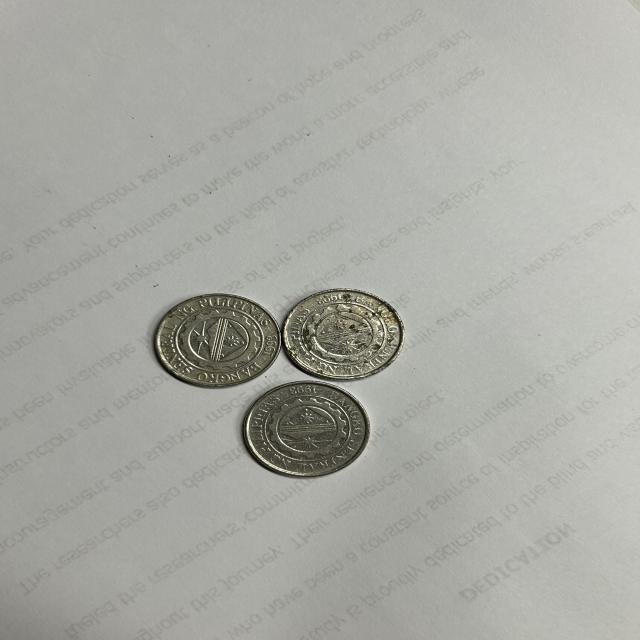1_Old_Back: (261, 390, 353, 467), (174, 304, 261, 376)
